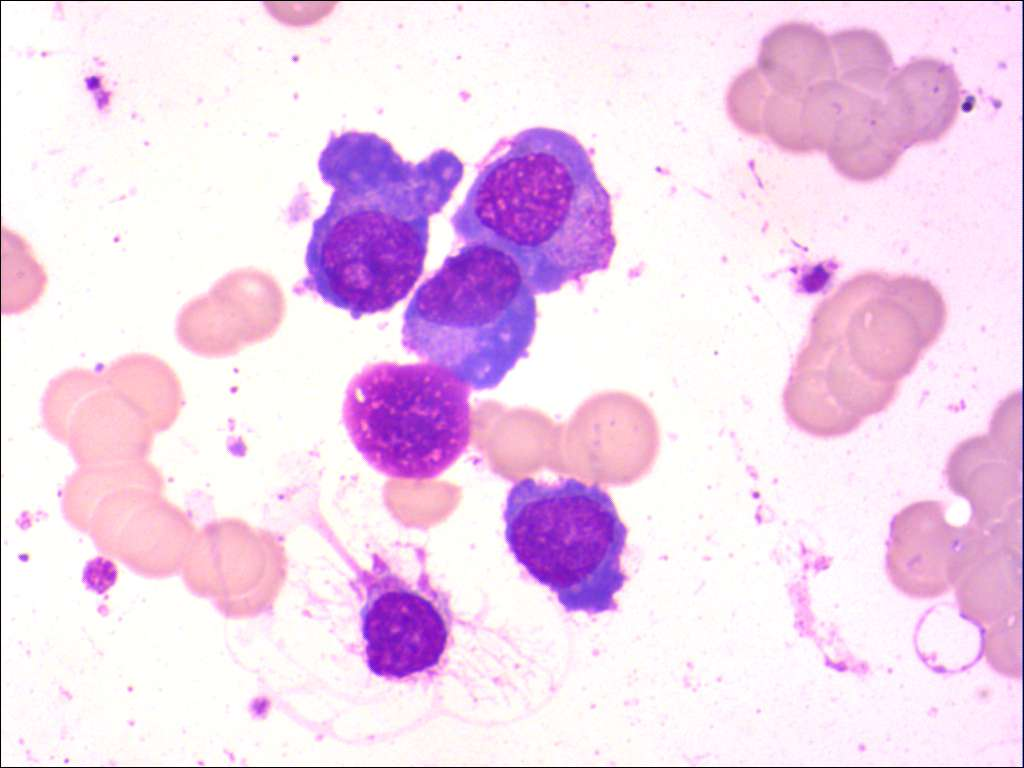51: (301, 127, 467, 324), (447, 122, 620, 300), (397, 240, 541, 393), (498, 472, 631, 617)
x: (339, 356, 476, 486), (346, 553, 461, 688)
